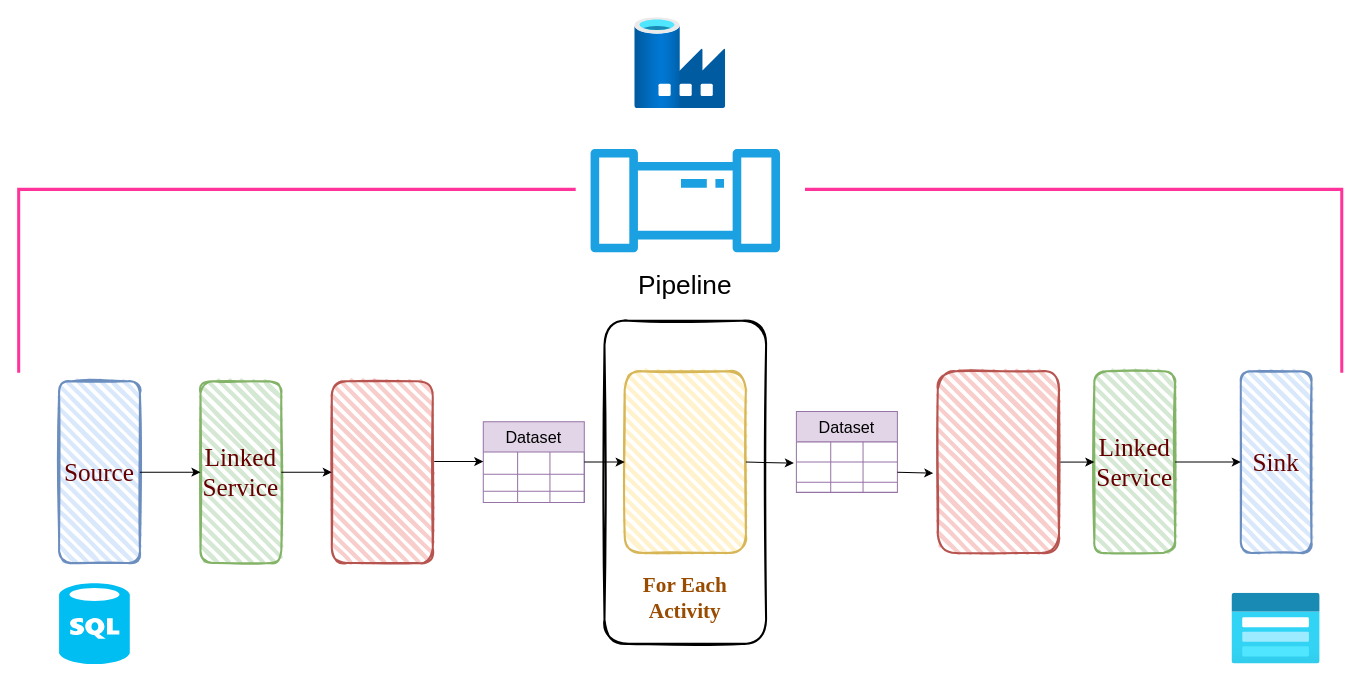
This 1360x681 diagram has some shape labels left out. The shapes that lost their labels are listed below. From the top down, each one's centre as x and y in pixels, then its label:
the point at 381,472: Self Hosted Integration Runtime
the point at 684,461: Copy Activity
the point at 997,461: Integration Runtime
